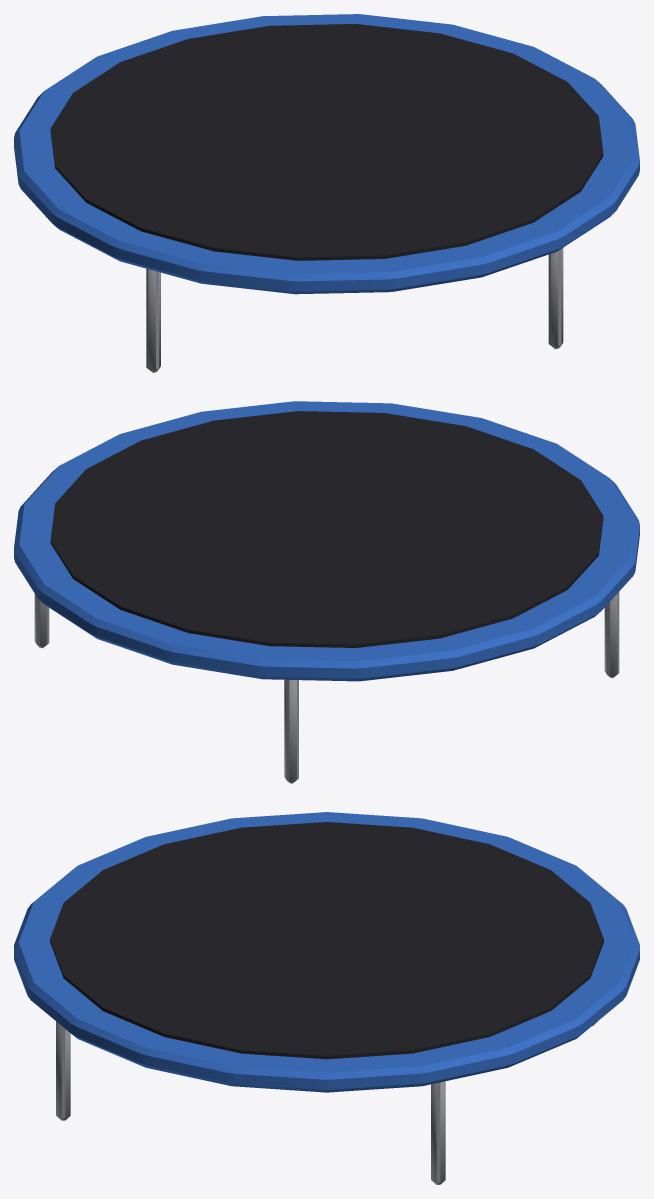
The model's file is Trampoline.fbx.
3 views of the same model, one above another, from view 1: azimuth 30°, elevation 25°; view 2: azimuth 150°, elevation 25°; view 3: azimuth 270°, elevation 25° (orthographic).
Visible parts, largest first — view 1: Trampoline; view 2: Trampoline; view 3: Trampoline.
Boxes of the visible parts, x1,y1,x2,y2 form: Trampoline: [14, 14, 639, 372]; Trampoline: [14, 401, 639, 783]; Trampoline: [14, 812, 639, 1184].
Bounding box in the file's own units: 3.39 × 0.8 × 3.39.
